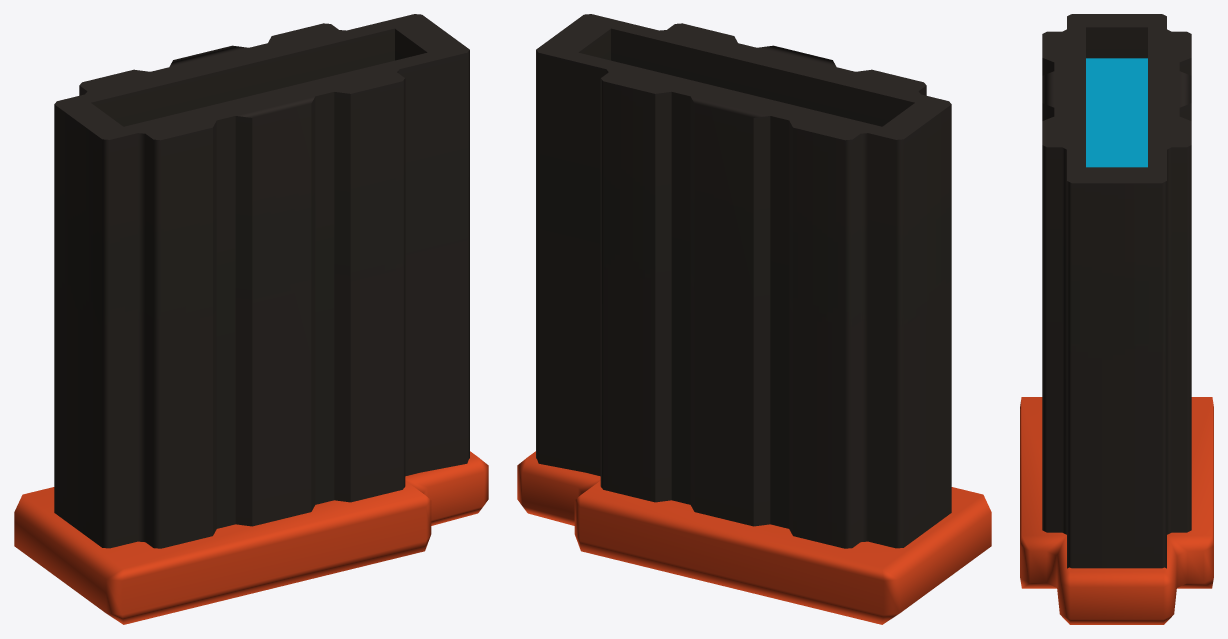
File: AR6_Magazine.fbx
The picture shows the model from 3 angles, left to right: view 1: azimuth 30°, elevation 25°; view 2: azimuth 150°, elevation 25°; view 3: azimuth 270°, elevation 25°; orthographic projection. The views are drawn at different scales.
Visible parts, largest first — view 1: AR6_Magazine; view 2: AR6_Magazine; view 3: AR6_Magazine.
Boxes of the visible parts, <box> form: AR6_Magazine: <box>14,14,488,624</box>; AR6_Magazine: <box>517,14,991,624</box>; AR6_Magazine: <box>1020,14,1213,624</box>.
Size of the model in its own units: 8.05 by 8.85 by 3.55.
